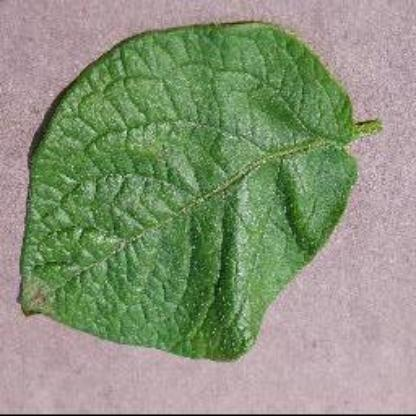Healthy-plant: (19, 18, 384, 362)
